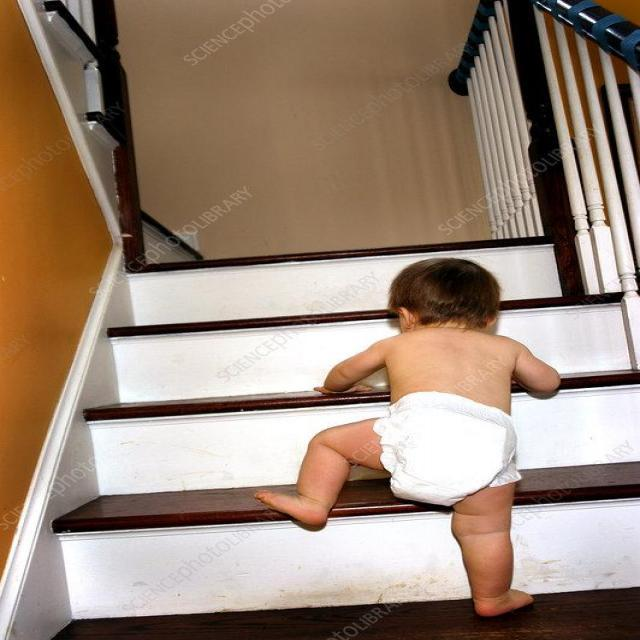child: (248, 249, 569, 621)
